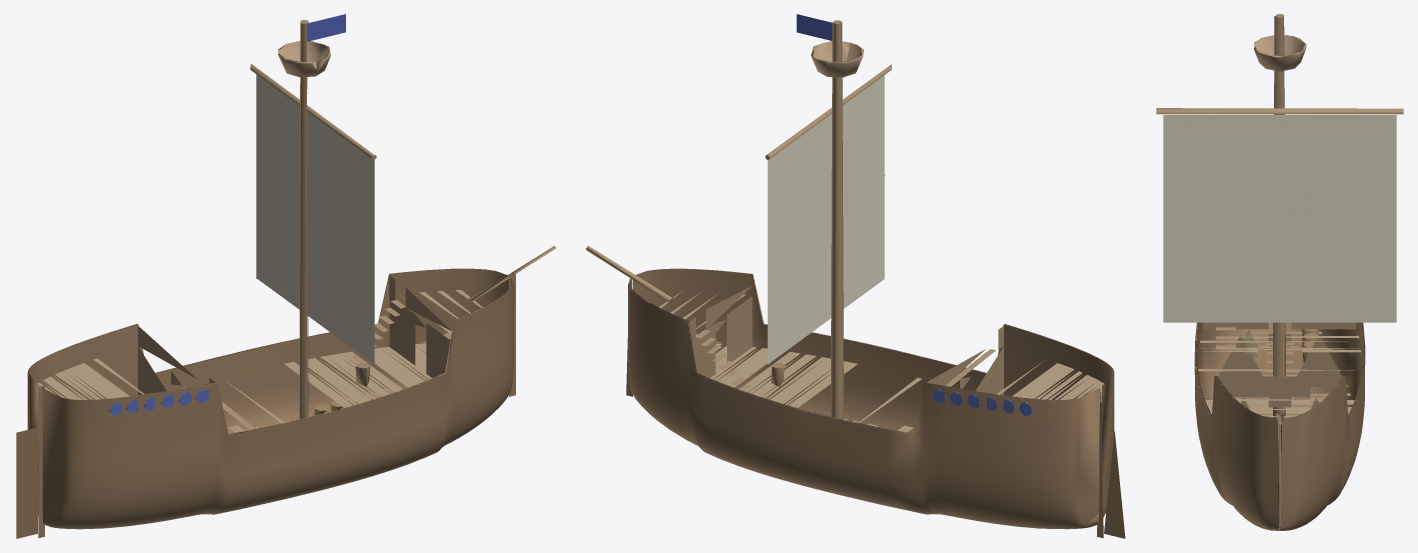
The model's file is french-cog-far.glb.
The picture shows the model from 3 angles, left to right: view 1: azimuth 30°, elevation 25°; view 2: azimuth 150°, elevation 25°; view 3: azimuth 270°, elevation 25°; orthographic projection.
Visible parts, largest first — view 1: hull, square-sail, deck, mast, rudder, fighting-top, fore-bulkhead-port, fore-bulkhead-starboard, yard, sternpost, masthead-pennant, aft-bulkhead-port (+1 smaller); view 2: hull, square-sail, deck, mast, fighting-top, fore-bulkhead-starboard, rudder, fore-bulkhead-port, yard, aft-bulkhead-starboard, masthead-pennant; view 3: square-sail, hull, deck, forecastle-front-rail-b, yard, mast, fighting-top, hold-bulkhead-port, hold-bulkhead-starboard, aft-bulkhead-port, aft-bulkhead-starboard.
Boxes of the visible parts, box(x1,y1,x2,y2) form: hull: box(27, 268, 514, 529); square-sail: box(256, 74, 374, 364); deck: box(38, 290, 482, 432); mast: box(299, 20, 308, 419); rudder: box(16, 427, 37, 538); fighting-top: box(278, 41, 330, 77); fore-bulkhead-port: box(389, 296, 415, 365); fore-bulkhead-starboard: box(426, 323, 450, 377); yard: box(250, 64, 376, 159); sternpost: box(38, 385, 44, 538); masthead-pennant: box(307, 14, 345, 41); aft-bulkhead-port: box(138, 346, 166, 395); hull: box(628, 268, 1114, 529); square-sail: box(767, 75, 885, 364); deck: box(659, 292, 1103, 432); mast: box(830, 20, 843, 419); fighting-top: box(811, 41, 863, 77); fore-bulkhead-starboard: box(727, 296, 752, 361); rudder: box(1104, 431, 1125, 538); fore-bulkhead-port: box(692, 323, 715, 378); yard: box(765, 64, 891, 160); aft-bulkhead-starboard: box(975, 346, 1003, 395); masthead-pennant: box(796, 14, 832, 40); square-sail: box(1163, 114, 1396, 322); hull: box(1194, 322, 1365, 530); deck: box(1198, 331, 1361, 525); forecastle-front-rail-b: box(1218, 376, 1310, 396); yard: box(1156, 108, 1403, 114); mast: box(1272, 14, 1286, 444); fighting-top: box(1254, 35, 1306, 71); hold-bulkhead-port: box(1297, 334, 1346, 386); hold-bulkhead-starboard: box(1213, 334, 1262, 386); aft-bulkhead-port: box(1291, 322, 1356, 329); aft-bulkhead-starboard: box(1203, 322, 1268, 329).
Bounding box in the file's own units: 27.65 × 22.25 × 11.
